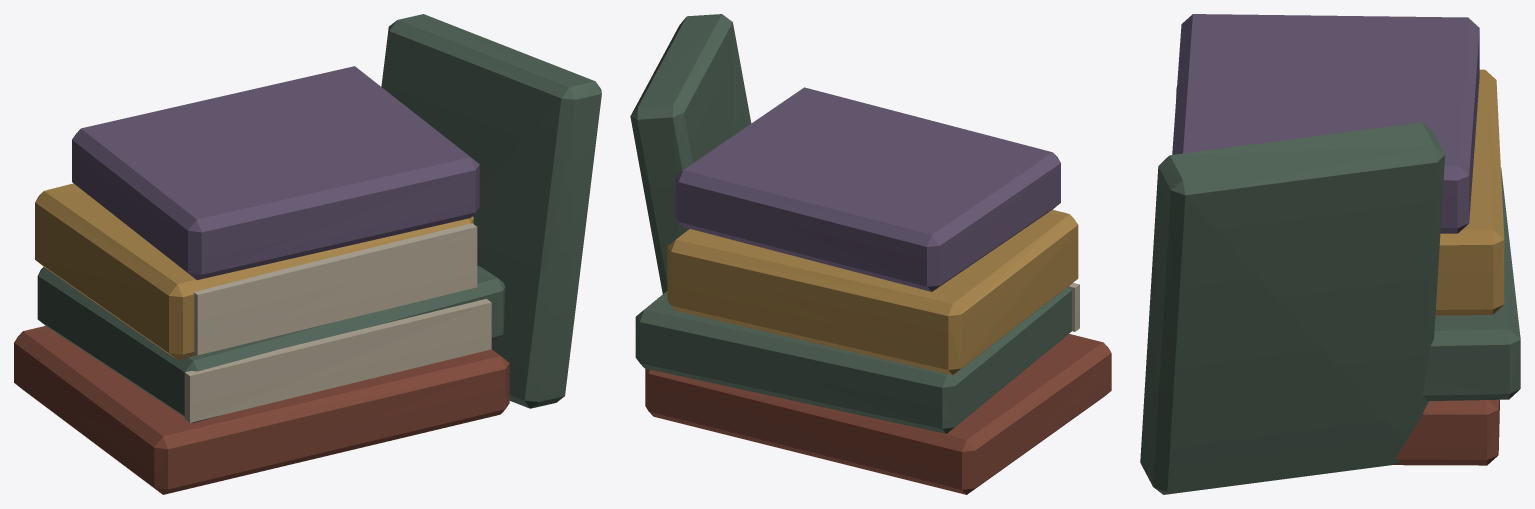
The model's file is books-stack.glb.
3 views of the same model, side by side, from view 1: azimuth 30°, elevation 25°; view 2: azimuth 150°, elevation 25°; view 3: azimuth 270°, elevation 25° (orthographic). The views are drawn at different scales.
Visible parts, largest first — view 1: books_stack; view 2: books_stack; view 3: books_stack.
Boxes of the visible parts, x1,y1,x2,y2 form: books_stack: (14,14,601,494); books_stack: (630,14,1111,494); books_stack: (1140,14,1520,494).
Bounding box in the file's own units: 0.3082 × 0.201 × 0.1989.
